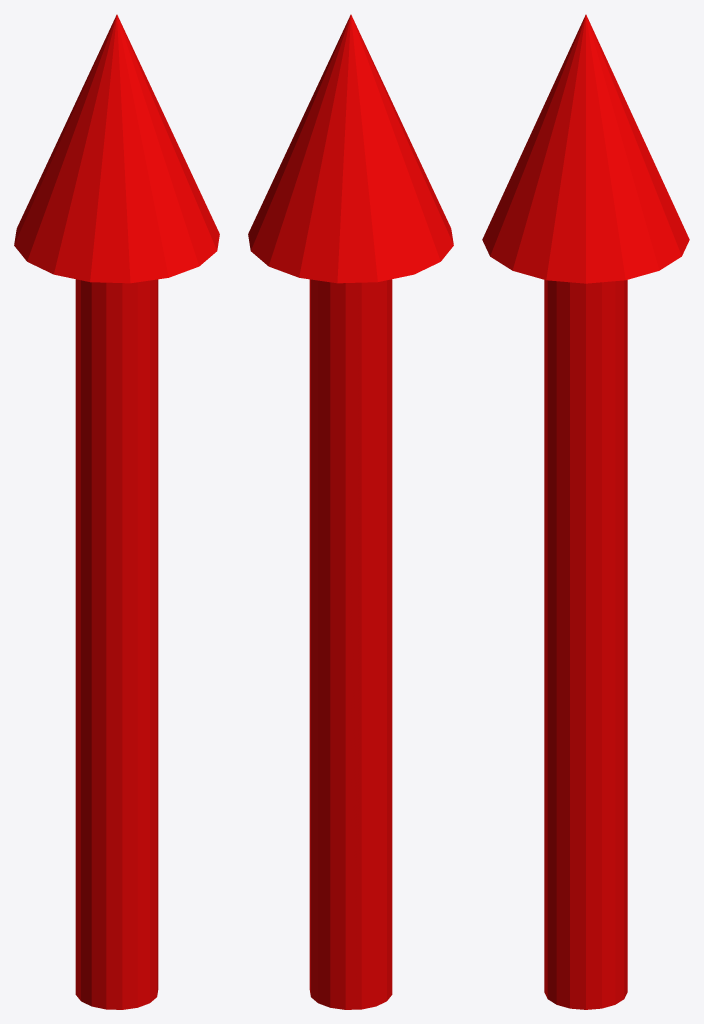
File: RedArrow.glb
The picture shows the model from 3 angles, left to right: view 1: azimuth 30°, elevation 25°; view 2: azimuth 150°, elevation 25°; view 3: azimuth 270°, elevation 25°; orthographic projection.
Parts seen in each view (by area): view 1: Cylinder; view 2: Cylinder; view 3: Cylinder.
Boxes of the visible parts, left/top/right/bottom form: Cylinder: left=14, top=14, right=219, bottom=1009; Cylinder: left=248, top=14, right=453, bottom=1009; Cylinder: left=482, top=14, right=689, bottom=1009.
Bounding box in the file's own units: 0.5 × 2.6 × 0.5.
